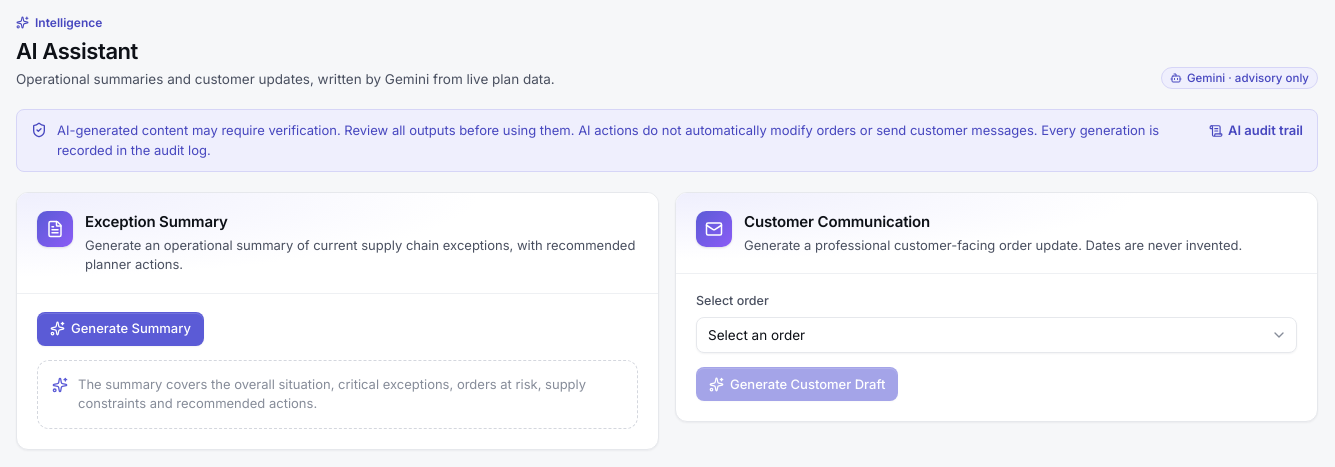
Scenario: AIAssistant page › displays an AI error when summary generation fails
Click the button "Generate Summary": (120, 329) 37,312 -> 204,346
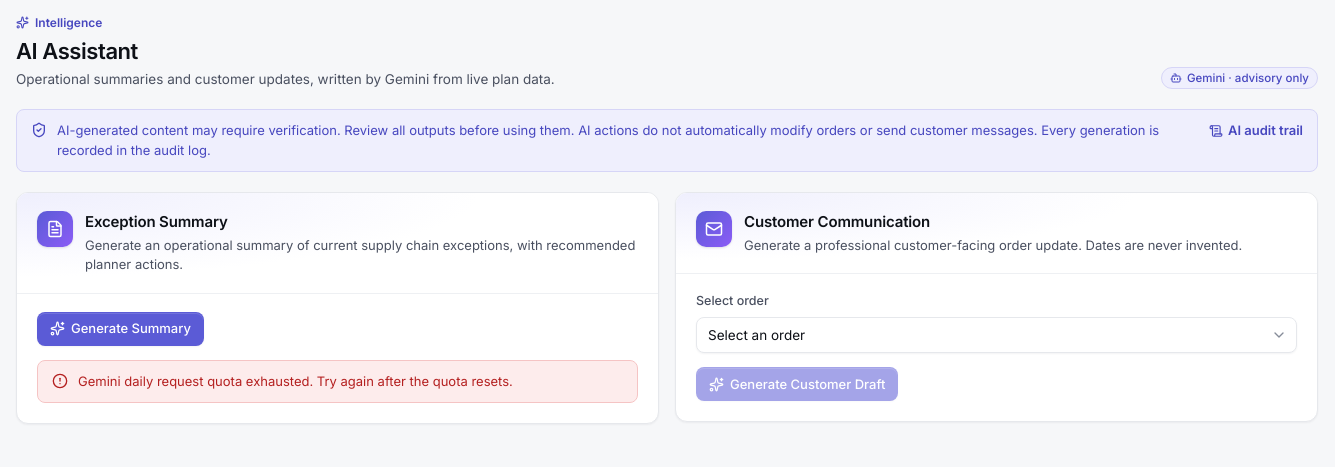
Now the text "Gemini daily request quota exhausted. Try again after the quota resets." is shown, box 78,373 -> 513,389
